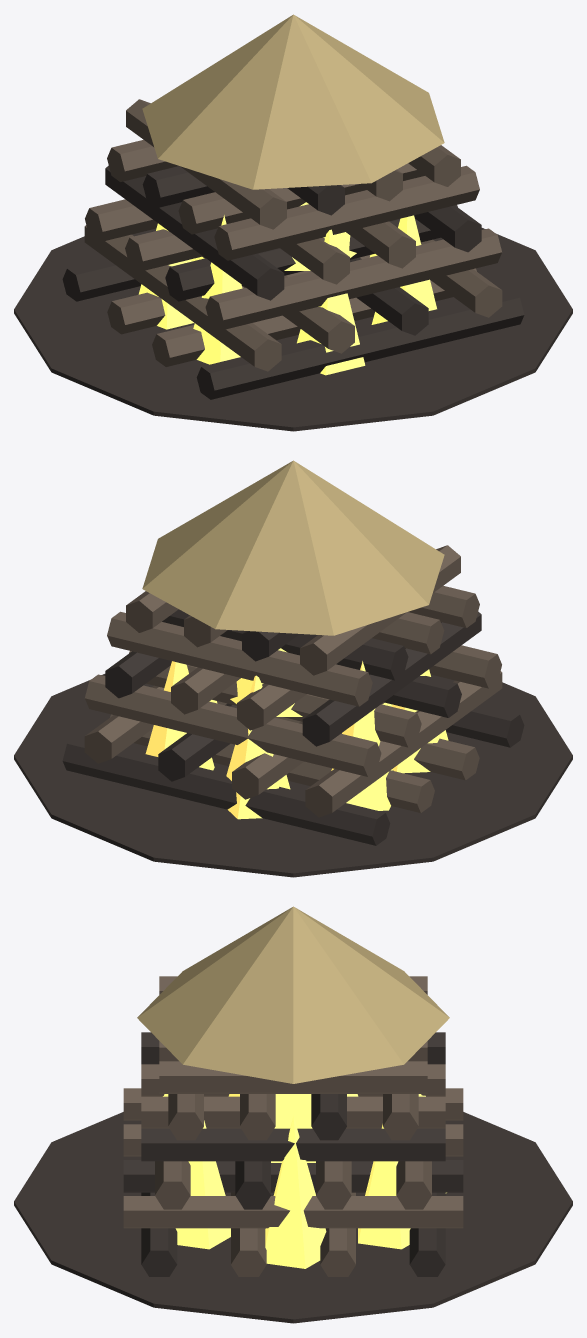
Rendered from pyre.glb.
3 renders of one model, top to bottom at view 1: azimuth 30°, elevation 25°; view 2: azimuth 150°, elevation 25°; view 3: azimuth 270°, elevation 25°, orthographic.
Parts seen in each view (by area): view 1: pyre; view 2: pyre; view 3: pyre.
Boxes of the visible parts, x1,y1,x2,y2 form: pyre: [14, 14, 572, 431]; pyre: [14, 460, 572, 877]; pyre: [14, 906, 572, 1323].
Bounding box in the file's own units: 2.5 × 1.47 × 2.5.
